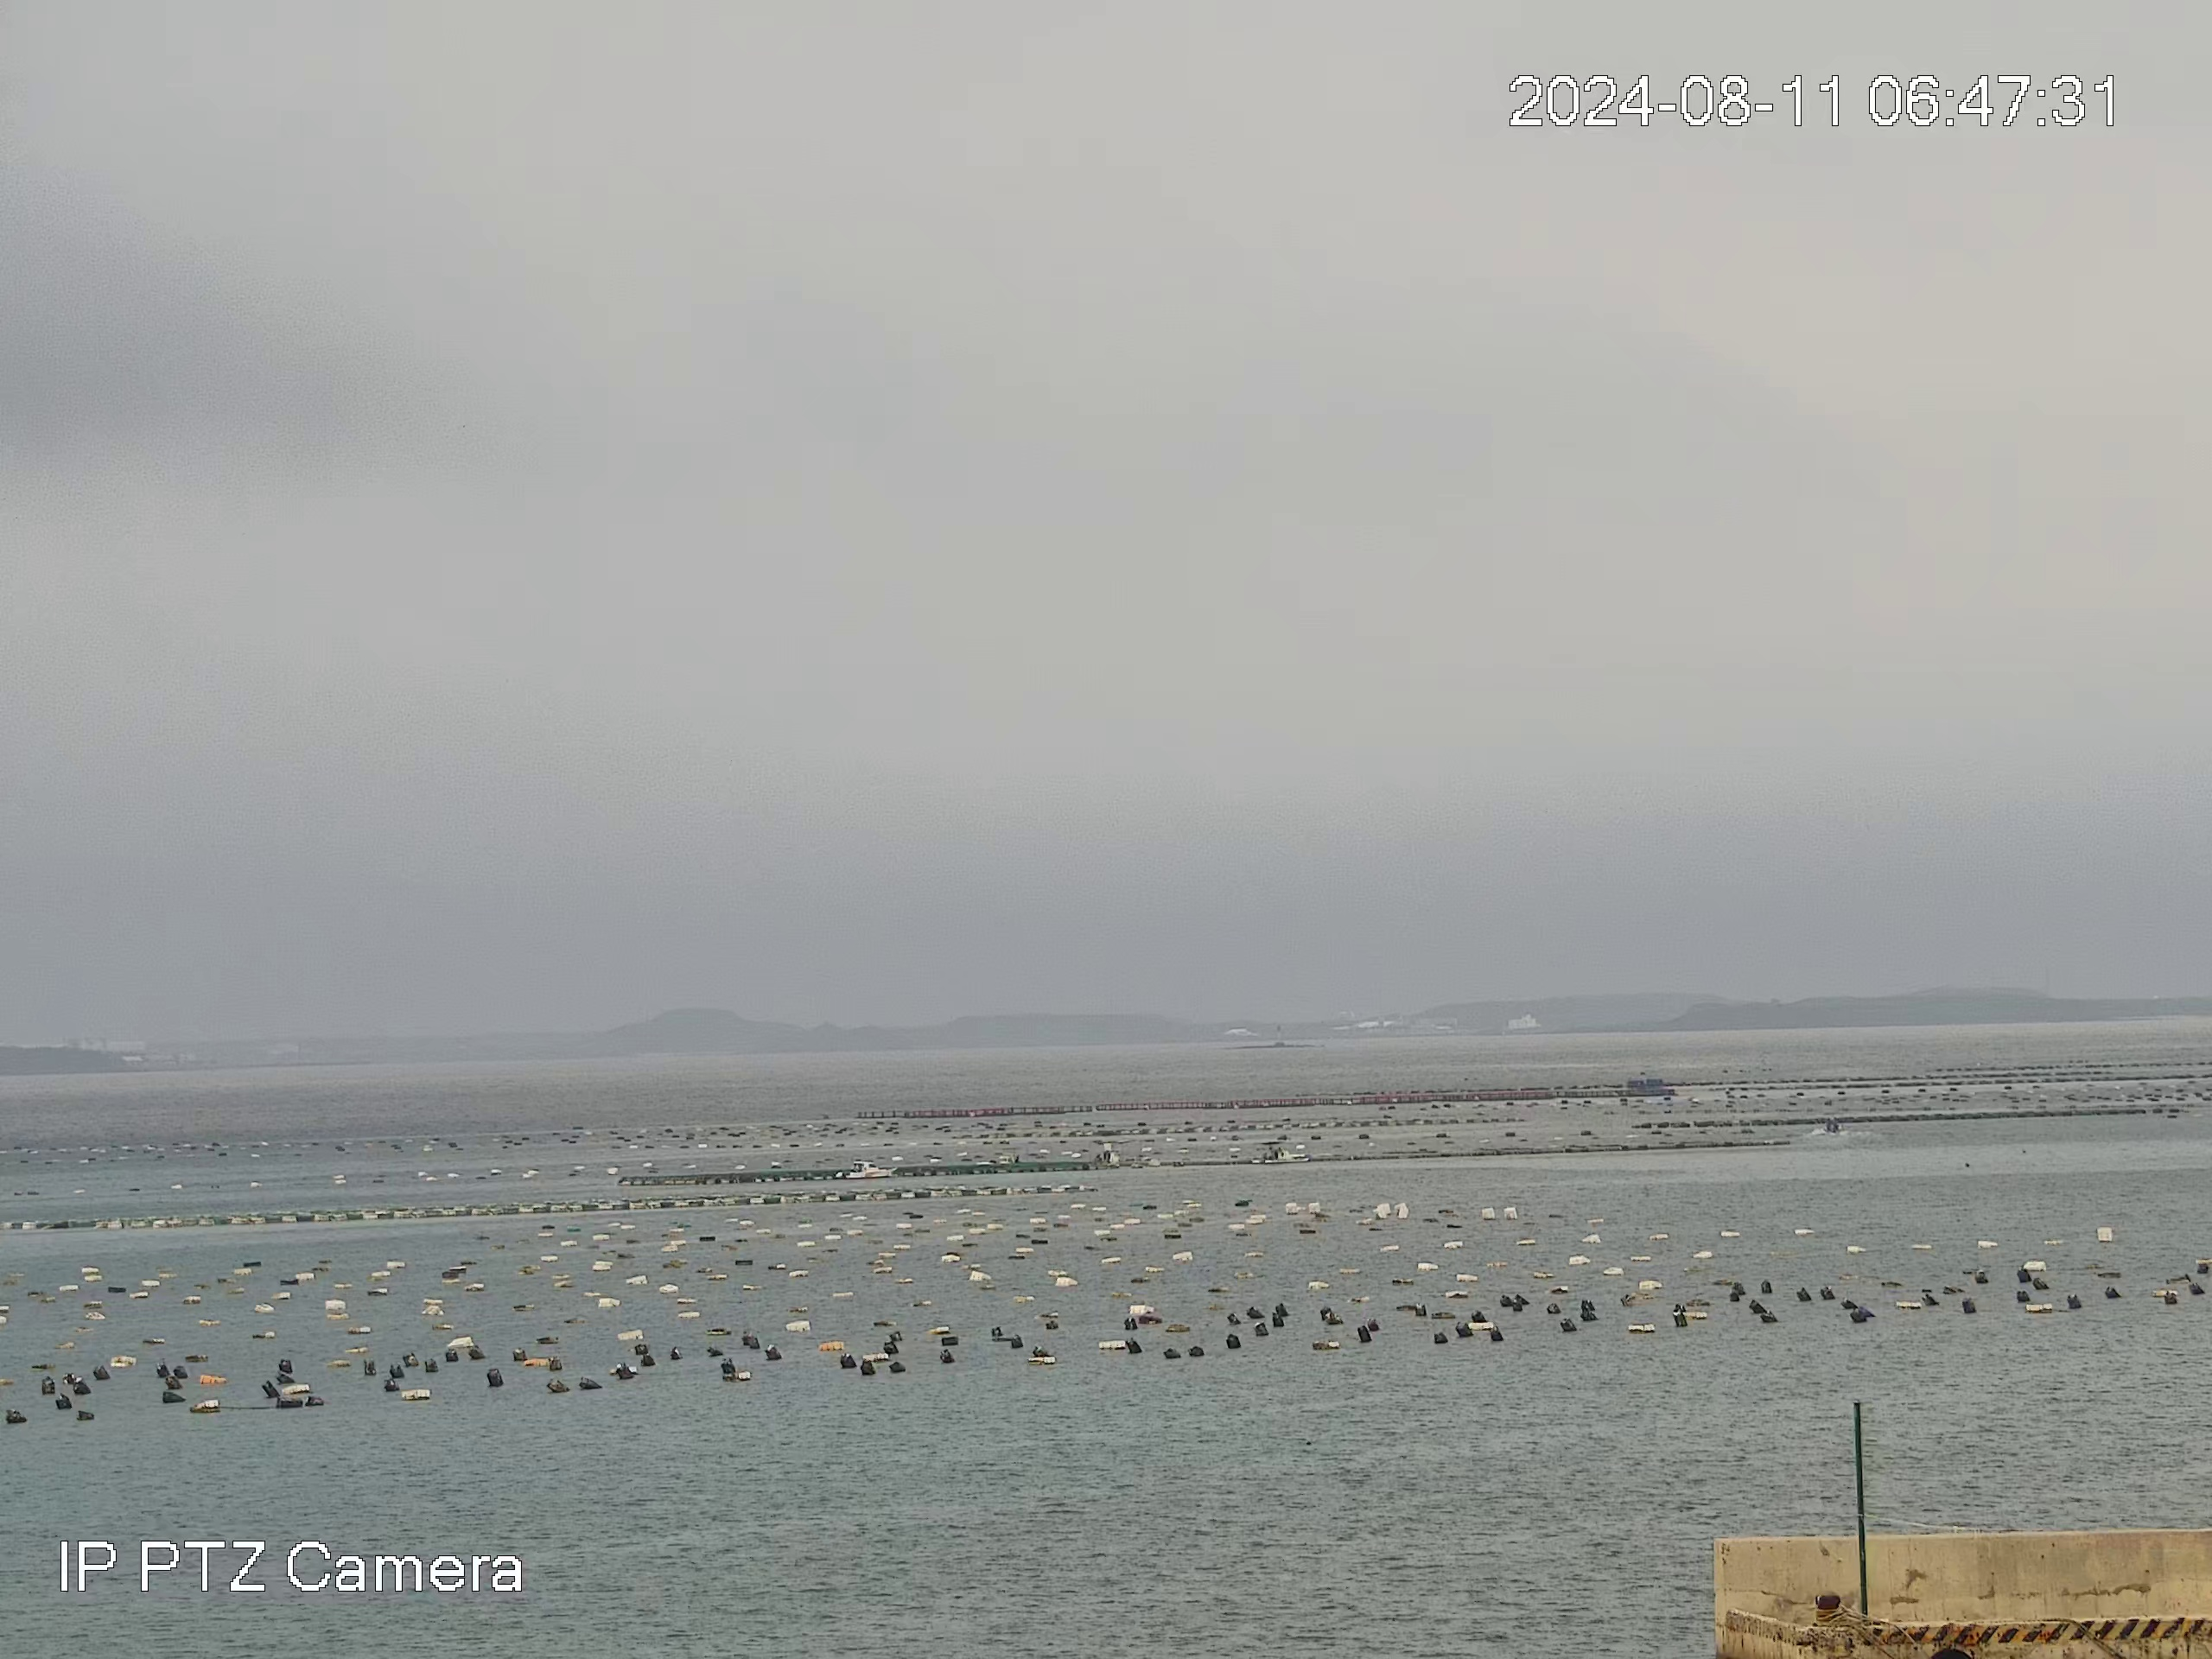boat: (1249, 1141, 1310, 1164), (833, 1159, 892, 1180)
